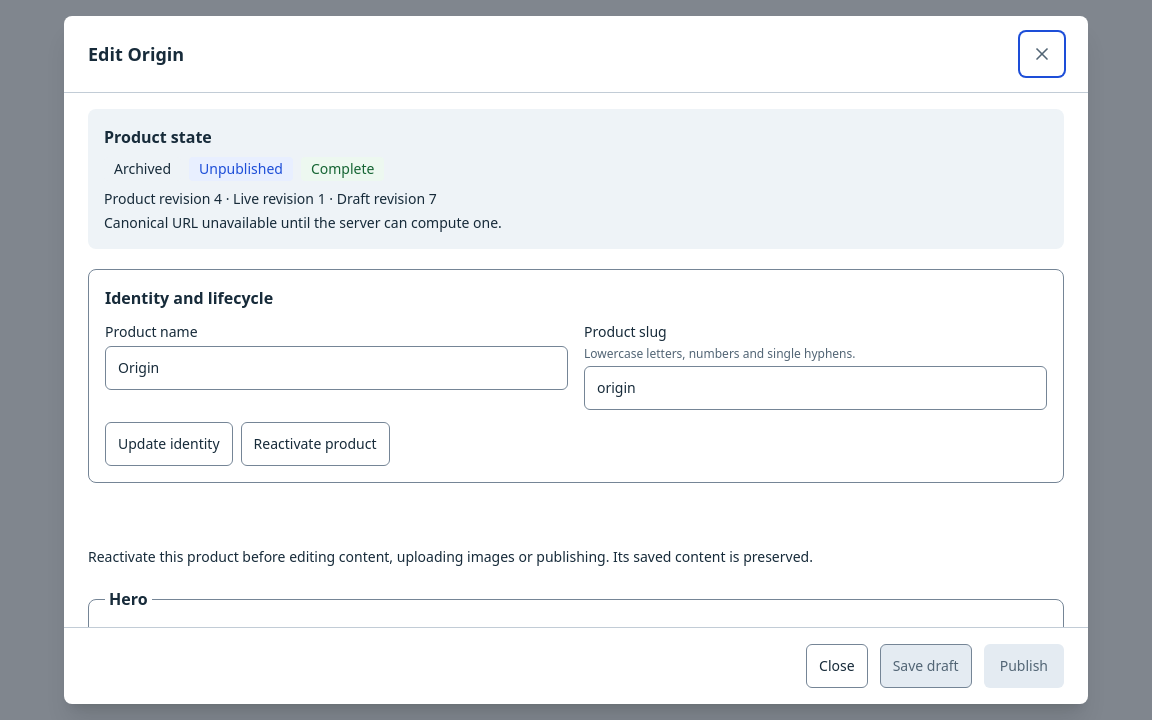
Test: ProductEditorModal › reopens an archived product read-only and reactivates before allowing content commands
Expected: the button "Save draft" is disabled, [880,644,972,688]
Expected: the button "Publish" is disabled, [984,644,1064,688]
Type keys "{Control>}s{/Control}"
Click the button "Reactivate product" at (315, 444), box [240,422,390,466]
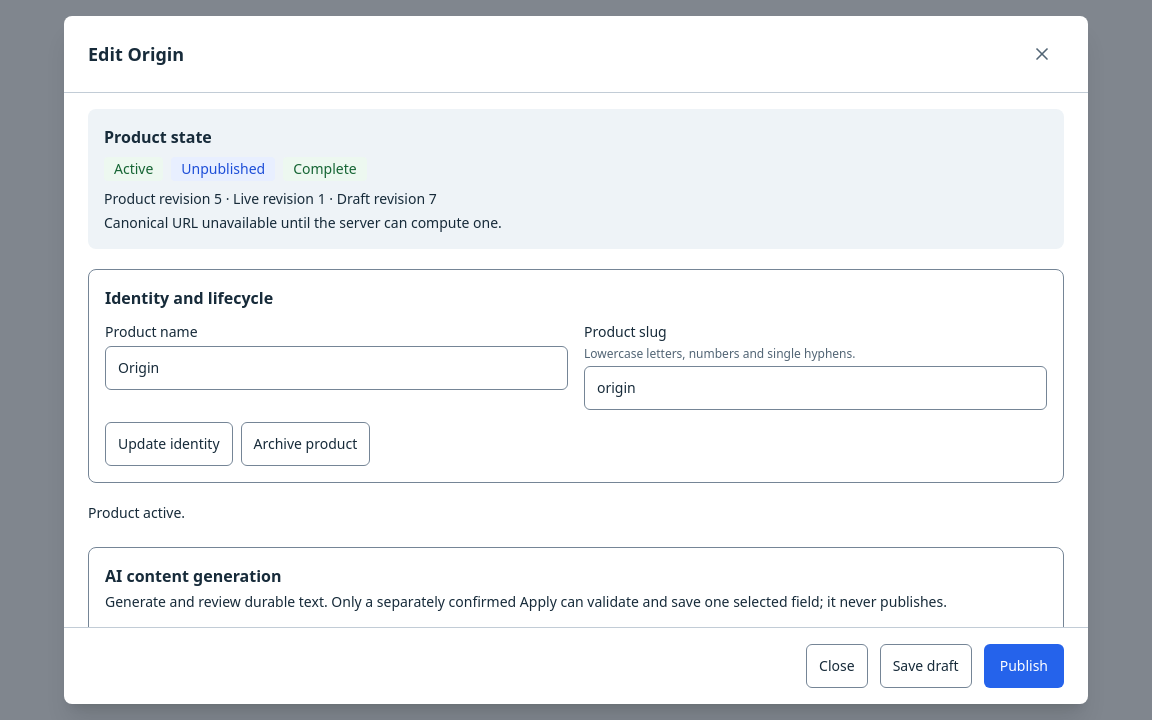
Expected: the button "Archive product" is enabled, [240,422,370,466]
Expected: the button "Save draft" is enabled, [880,644,972,688]
